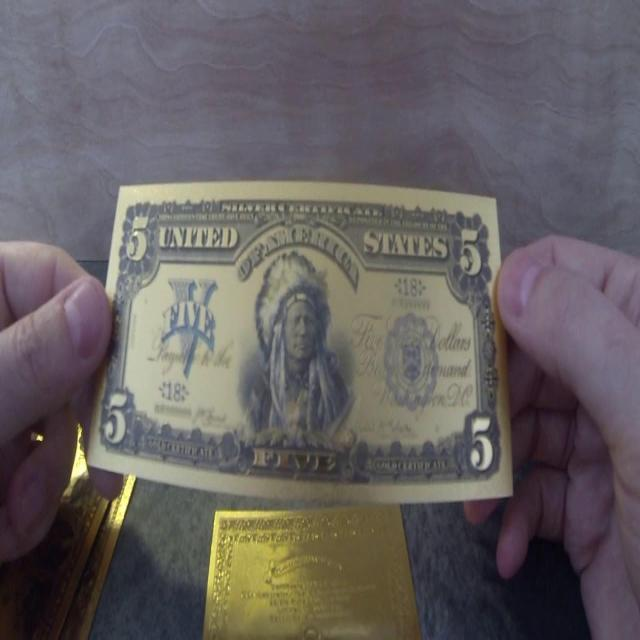5-Front: (95, 183, 519, 496)
